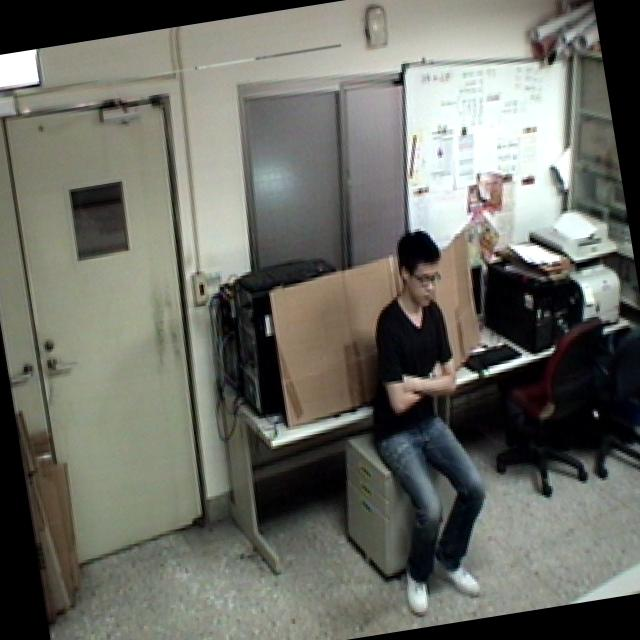sit: (336, 214, 513, 624)
